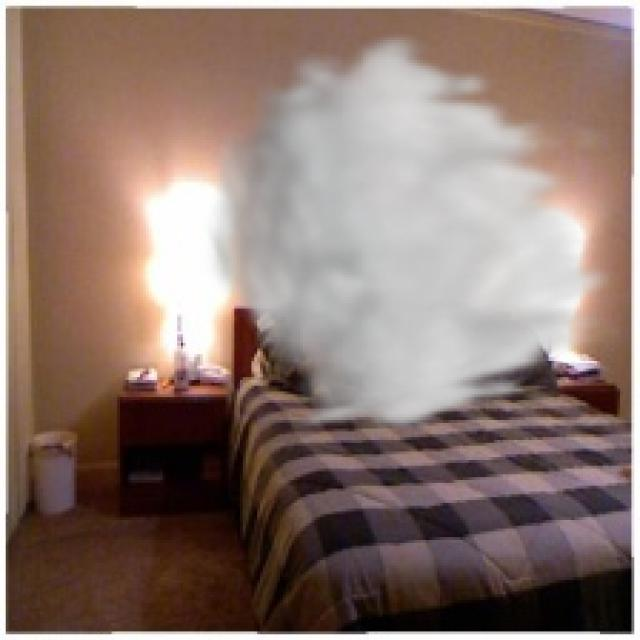smoke: (200, 29, 626, 434)
